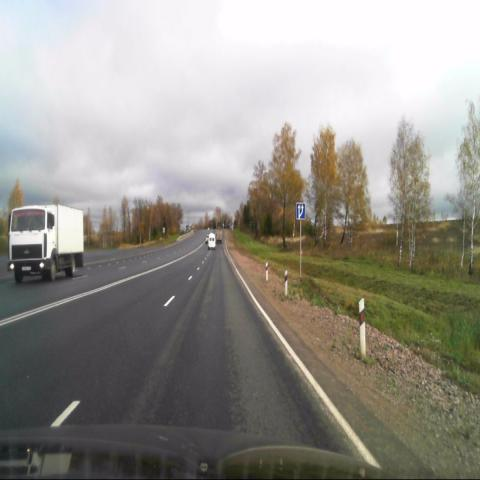5_15_3: (296, 203, 306, 219)
